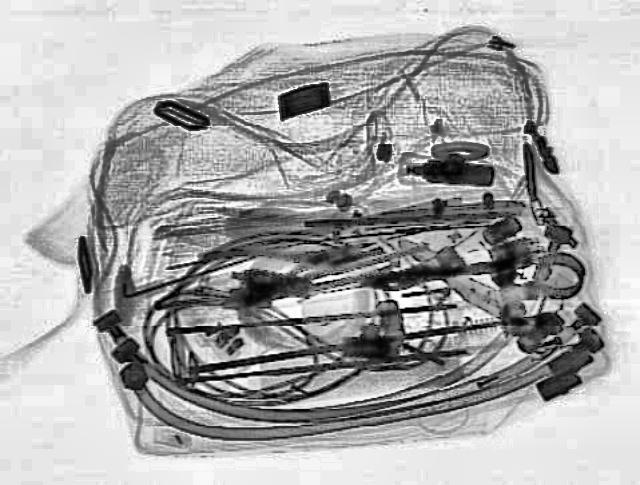Pliers: (198, 229, 352, 299)
